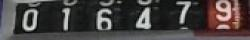digits: (214, 0, 231, 31), (94, 8, 114, 34), (134, 6, 152, 30), (20, 8, 38, 30), (174, 0, 190, 23), (61, 7, 70, 32)
